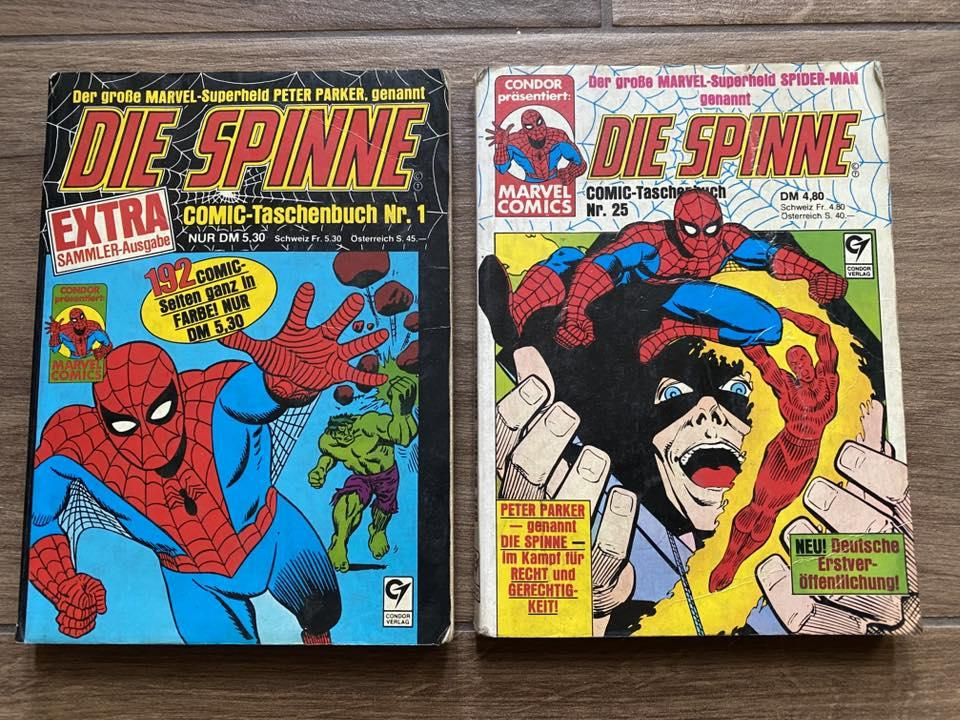comic: (469, 61, 919, 639), (18, 70, 450, 643)
